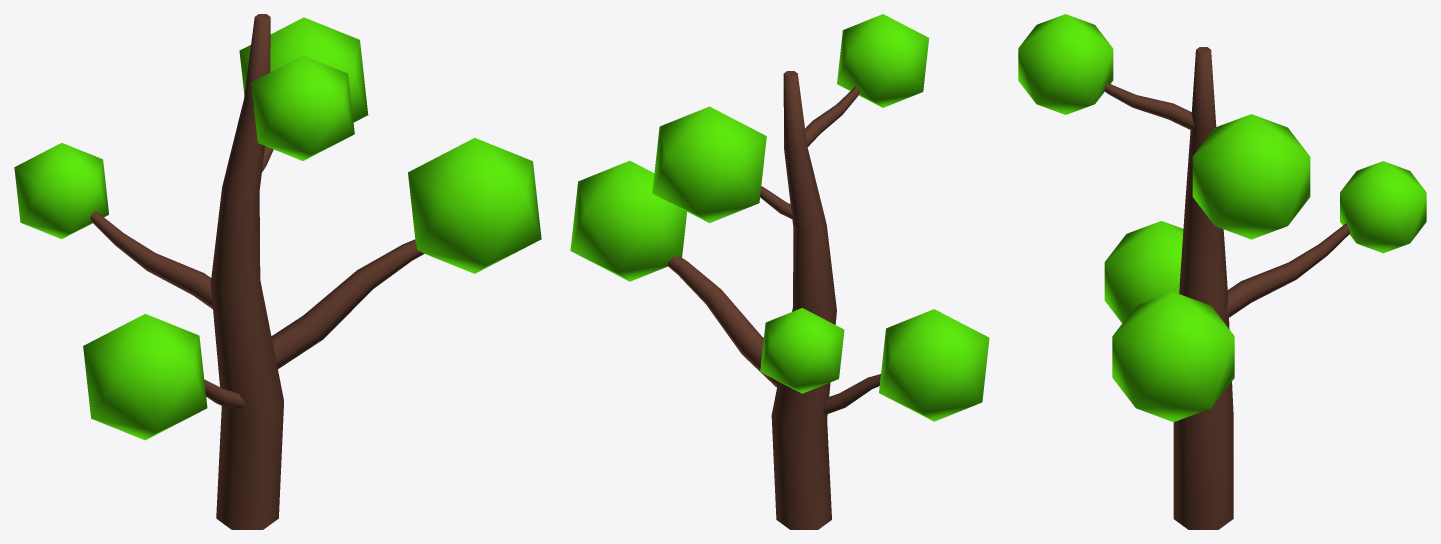
Rendered from Tree.fbx.
3 views of the same model, side by side, from view 1: azimuth 30°, elevation 25°; view 2: azimuth 150°, elevation 25°; view 3: azimuth 270°, elevation 25° (orthographic). The views are drawn at different scales.
Visible parts, largest first — view 1: Cylinder.163, Icosphere, Icosphere.004, Icosphere.002, Icosphere.003, Cylinder.164, Icosphere.001, Cylinder.166, Cylinder.168; view 2: Cylinder.163, Icosphere.001, Icosphere, Icosphere.004, Icosphere.002, Icosphere.003, Cylinder.164, Cylinder.167, Cylinder.168; view 3: Cylinder.163, Icosphere, Icosphere.001, Icosphere.002, Icosphere.003, Icosphere.004, Cylinder.166, Cylinder.167.
Boxes of the visible parts, x1,y1,x2,y2 form: Cylinder.163: (210, 14, 283, 529); Icosphere: (408, 138, 541, 273); Icosphere.004: (83, 314, 207, 440); Icosphere.002: (251, 55, 354, 160); Icosphere.003: (14, 143, 108, 239); Cylinder.164: (271, 239, 424, 368); Icosphere.001: (239, 17, 368, 122); Cylinder.166: (90, 211, 212, 308); Cylinder.168: (204, 379, 245, 409); Cylinder.163: (771, 71, 836, 529); Icosphere.001: (652, 106, 766, 223); Icosphere: (570, 160, 686, 281); Icosphere.004: (879, 309, 989, 421); Icosphere.002: (837, 14, 929, 107); Icosphere.003: (760, 308, 844, 393); Cylinder.164: (667, 256, 780, 387); Cylinder.167: (805, 86, 859, 146); Cylinder.168: (823, 374, 880, 414); Cylinder.163: (1173, 47, 1233, 529); Icosphere: (1112, 292, 1234, 422); Icosphere.001: (1192, 114, 1310, 239); Icosphere.002: (1018, 14, 1113, 114); Icosphere.003: (1340, 161, 1426, 253); Icosphere.004: (1104, 221, 1183, 323); Cylinder.166: (1226, 223, 1349, 317); Cylinder.167: (1104, 82, 1194, 130).
Bounding box in the file's own units: 826 × 916 × 682.
